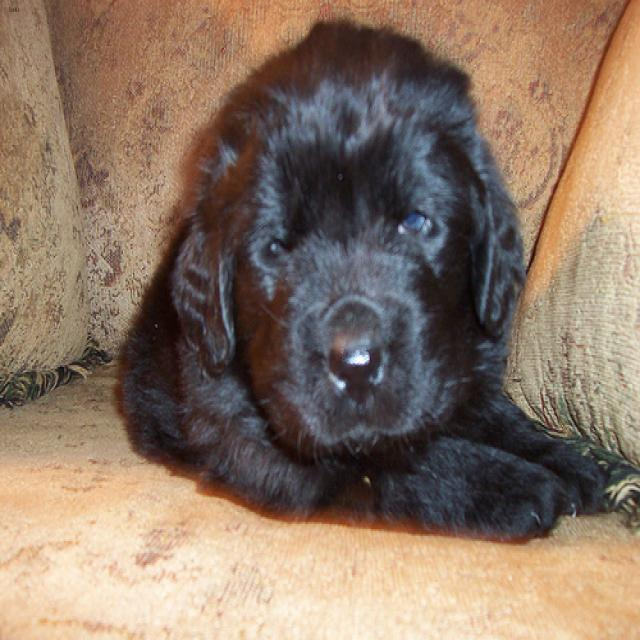dog-newfoundland: (104, 14, 637, 555)
